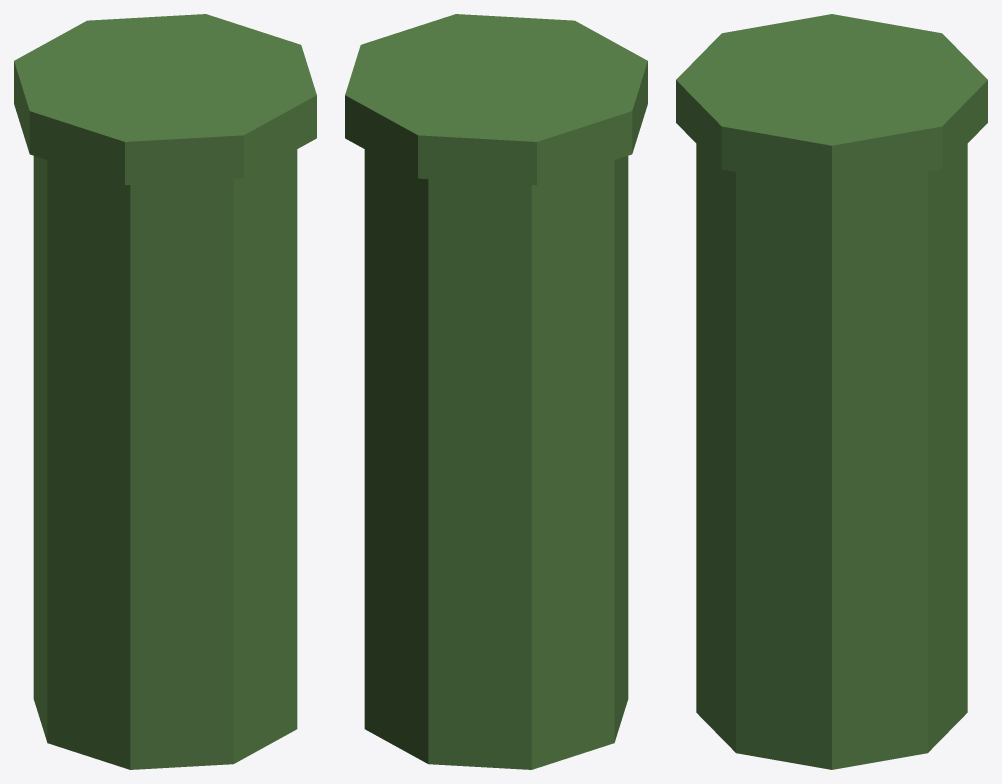
Rendered from terrain-grass-pillar.lod0.glb.
3 views of the same model, side by side, from view 1: azimuth 30°, elevation 25°; view 2: azimuth 150°, elevation 25°; view 3: azimuth 270°, elevation 25° (orthographic).
Visible parts, largest first — view 1: terrain-grass-pillar__body; view 2: terrain-grass-pillar__body; view 3: terrain-grass-pillar__body.
Boxes of the visible parts, box(x1,y1,x2,y2) form: terrain-grass-pillar__body: box(14, 14, 316, 769); terrain-grass-pillar__body: box(345, 14, 647, 769); terrain-grass-pillar__body: box(676, 14, 987, 769).
Bounding box in the file's own units: 0.92 × 2.06 × 0.92.
